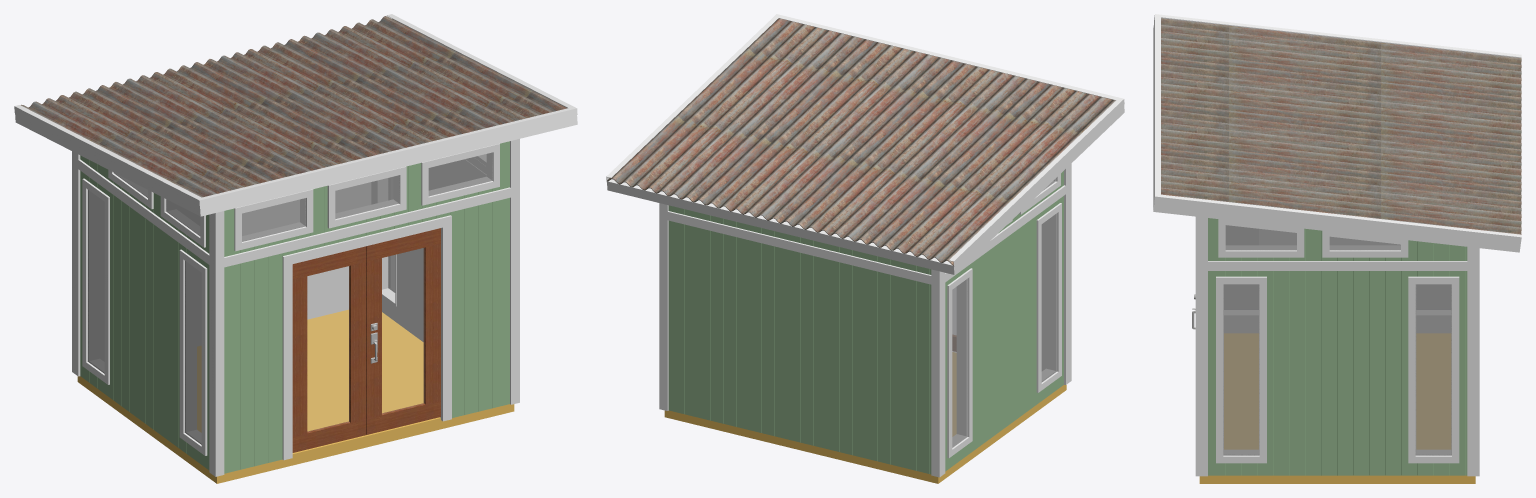
3 views of the same model, side by side, from view 1: azimuth 30°, elevation 25°; view 2: azimuth 150°, elevation 25°; view 3: azimuth 270°, elevation 25° (orthographic). The views are drawn at different scales.
Parts seen in each view (by area): view 1: 10x8_Base, 10x8_Front_22s_door_22s, 10x8_Left_22w_44s_22w, 10x8_Back_44s_22s_44s, 10x8_Right_22w_44s_22w; view 2: 10x8_Base, 10x8_Back_44s_22s_44s, 10x8_Left_22w_44s_22w, 10x8_Front_22s_door_22s; view 3: 10x8_Base, 10x8_Right_22w_44s_22w, 10x8_Left_22w_44s_22w.
Boxes of the visible parts, <box> form: 10x8_Base: <box>14,14,577,483</box>; 10x8_Front_22s_door_22s: <box>226,198,506,472</box>; 10x8_Left_22w_44s_22w: <box>81,171,209,469</box>; 10x8_Back_44s_22s_44s: <box>100,182,370,360</box>; 10x8_Right_22w_44s_22w: <box>371,159,486,341</box>; 10x8_Base: <box>606,14,1124,483</box>; 10x8_Back_44s_22s_44s: <box>671,221,929,473</box>; 10x8_Left_22w_44s_22w: <box>945,196,1063,471</box>; 10x8_Front_22s_door_22s: <box>952,222,1045,370</box>; 10x8_Base: <box>1153,14,1521,483</box>; 10x8_Right_22w_44s_22w: <box>1209,271,1465,475</box>; 10x8_Left_22w_44s_22w: <box>1224,226,1450,332</box>.
Bounding box in the file's own units: 3.77 × 2.95 × 3.21.
Materials: 10 (2 with a texture image).
